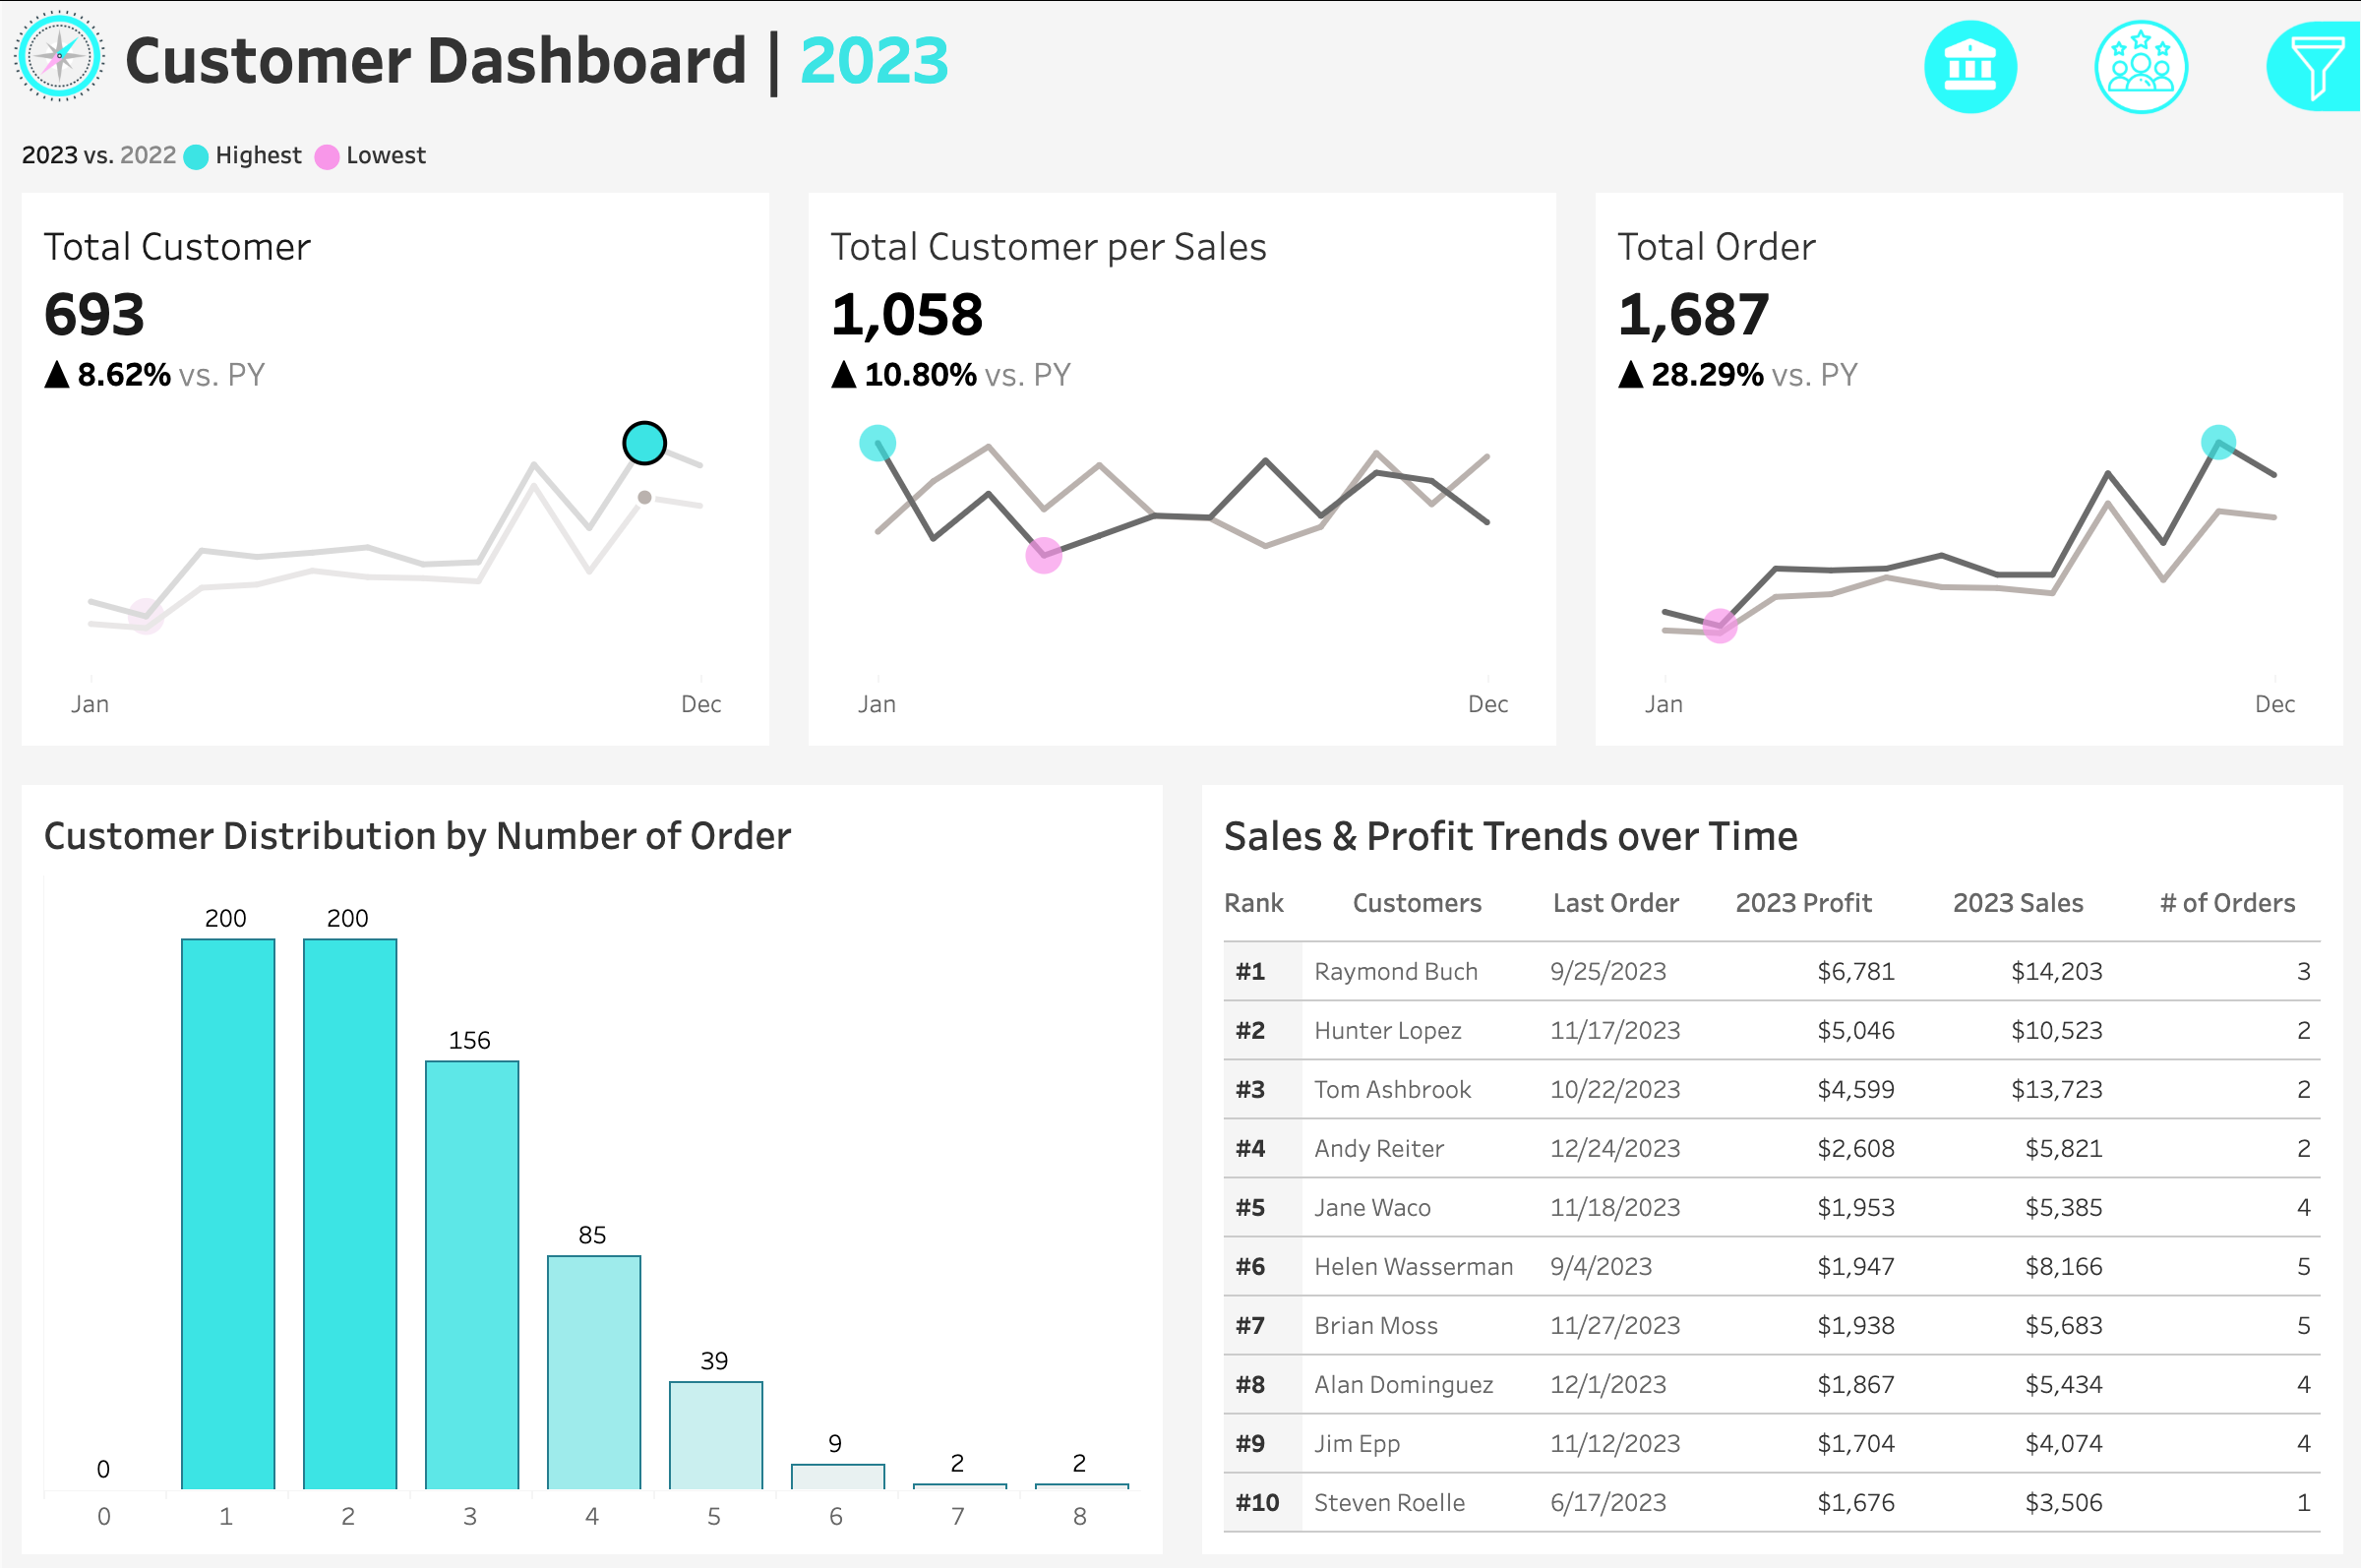

The page's visual inventory and layout, read from the dashboard file:
{"tool":"tableau","page":{"name":"Customer Dashboard","canvas":[1200,800],"ordinal":0},"visuals":[{"type":"image","param":"Image/Icon - Logo.png","box":[0,0,73,59]},{"type":"text","box":[73,0,820,59]},{"type":"dashboard-object","box":[940,6,91,70]},{"type":"dashboard-object","box":[1031,6,91,70]},{"type":"blank","box":[952,10,237,86]},{"type":"worksheet","title":"Legend KPI","mark":"Automatic","box":[0,59,1200,29]},{"type":"worksheet","title":"KPI Customers","mark":"Automatic","rows":["Min/Max Quantity (copy)_3221481164588691468"],"cols":["Order Date"],"box":[0,88,400,284]},{"type":"worksheet","title":"KPI Sales Per Customers","mark":"Automatic","rows":["Min/Max Quantity (copy)_3221481164537155591"],"cols":["Order Date"],"box":[400,88,400,284]},{"type":"worksheet","title":"KPI Orders","mark":"Automatic","rows":["Min/Max Sales (copy)_3221481164601258003"],"cols":["Order Date"],"box":[800,88,400,284]},{"type":"text","box":[952,96,237,37]},{"type":"parameter","param":"[Parameters].[Parameter 1]","box":[952,133,237,55]},{"type":"text","box":[952,188,237,32]},{"type":"filter","title":"KPI Customers","param":"[federated.1kpxa041aiai2y1cl4pui1t4eju9].[none:Category:nk]","box":[952,220,237,57]},{"type":"filter","title":"KPI Customers","param":"[federated.1kpxa041aiai2y1cl4pui1t4eju9].[none:Sub-Category:nk]","box":[952,277,237,57]},{"type":"blank","box":[952,334,237,60]},{"type":"text","box":[17,389,566,37]},{"type":"text","box":[617,389,566,37]},{"type":"text","box":[952,394,237,32]},{"type":"worksheet","title":"Customer Distribution","mark":"Bar","rows":["CY Sales (copy)_3221481164532666369"],"cols":["Calculation_998110323739992064"],"box":[17,426,566,357]},{"type":"text","box":[617,426,53,40]},{"type":"text","box":[670,426,130,40]},{"type":"text","box":[800,426,111,40]},{"type":"text","box":[911,426,108,40]},{"type":"filter","title":"KPI Customers","param":"[federated.1kpxa041aiai2y1cl4pui1t4eju9].[none:Region:nk]","box":[952,426,237,57]},{"type":"text","box":[1019,426,101,40]},{"type":"text","box":[1120,426,63,40]},{"type":"worksheet","title":"Top Customers","mark":"Automatic","rows":["Calculation_782500491678904334","Customer Name","Order Date"],"box":[617,466,566,317]},{"type":"filter","title":"KPI Customers","param":"[federated.1kpxa041aiai2y1cl4pui1t4eju9].[none:State:nk]","box":[952,483,237,57]},{"type":"filter","title":"KPI Customers","param":"[federated.1kpxa041aiai2y1cl4pui1t4eju9].[none:City:nk]","box":[952,540,237,57]}]}

Visuals, with their boxes in screenshot pixels (x1, y1, x2, y2), scaled from the page's 1200x800 canvas onto the 2361x1568 screenshot:
image: left=0, top=0, right=144, bottom=116
text: left=144, top=0, right=1757, bottom=116
dashboard-object: left=1849, top=12, right=2028, bottom=149
dashboard-object: left=2028, top=12, right=2208, bottom=149
blank: left=1873, top=20, right=2339, bottom=188
"Legend KPI" worksheet: left=0, top=116, right=2360, bottom=172
"KPI Customers" worksheet: left=0, top=172, right=787, bottom=729
"KPI Sales Per Customers" worksheet: left=787, top=172, right=1574, bottom=729
"KPI Orders" worksheet: left=1574, top=172, right=2360, bottom=729
text: left=1873, top=188, right=2339, bottom=261
parameter: left=1873, top=261, right=2339, bottom=369
text: left=1873, top=369, right=2339, bottom=431
"KPI Customers" filter: left=1873, top=431, right=2339, bottom=543
"KPI Customers" filter: left=1873, top=543, right=2339, bottom=654
blank: left=1873, top=654, right=2339, bottom=772
text: left=33, top=762, right=1147, bottom=835
text: left=1214, top=762, right=2328, bottom=835
text: left=1873, top=772, right=2339, bottom=835
"Customer Distribution" worksheet (Bar marks): left=33, top=835, right=1147, bottom=1535
text: left=1214, top=835, right=1318, bottom=914
text: left=1318, top=835, right=1574, bottom=914
text: left=1574, top=835, right=1792, bottom=914
text: left=1792, top=835, right=2005, bottom=914
"KPI Customers" filter: left=1873, top=835, right=2339, bottom=946
text: left=2005, top=835, right=2204, bottom=914
text: left=2204, top=835, right=2328, bottom=914
"Top Customers" worksheet: left=1214, top=914, right=2328, bottom=1535
"KPI Customers" filter: left=1873, top=946, right=2339, bottom=1058
"KPI Customers" filter: left=1873, top=1058, right=2339, bottom=1171
